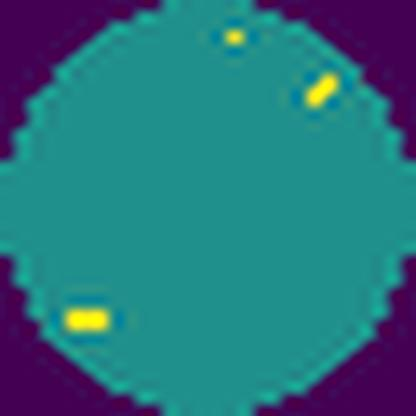Loc: (305, 74, 339, 111), (65, 306, 112, 331)
